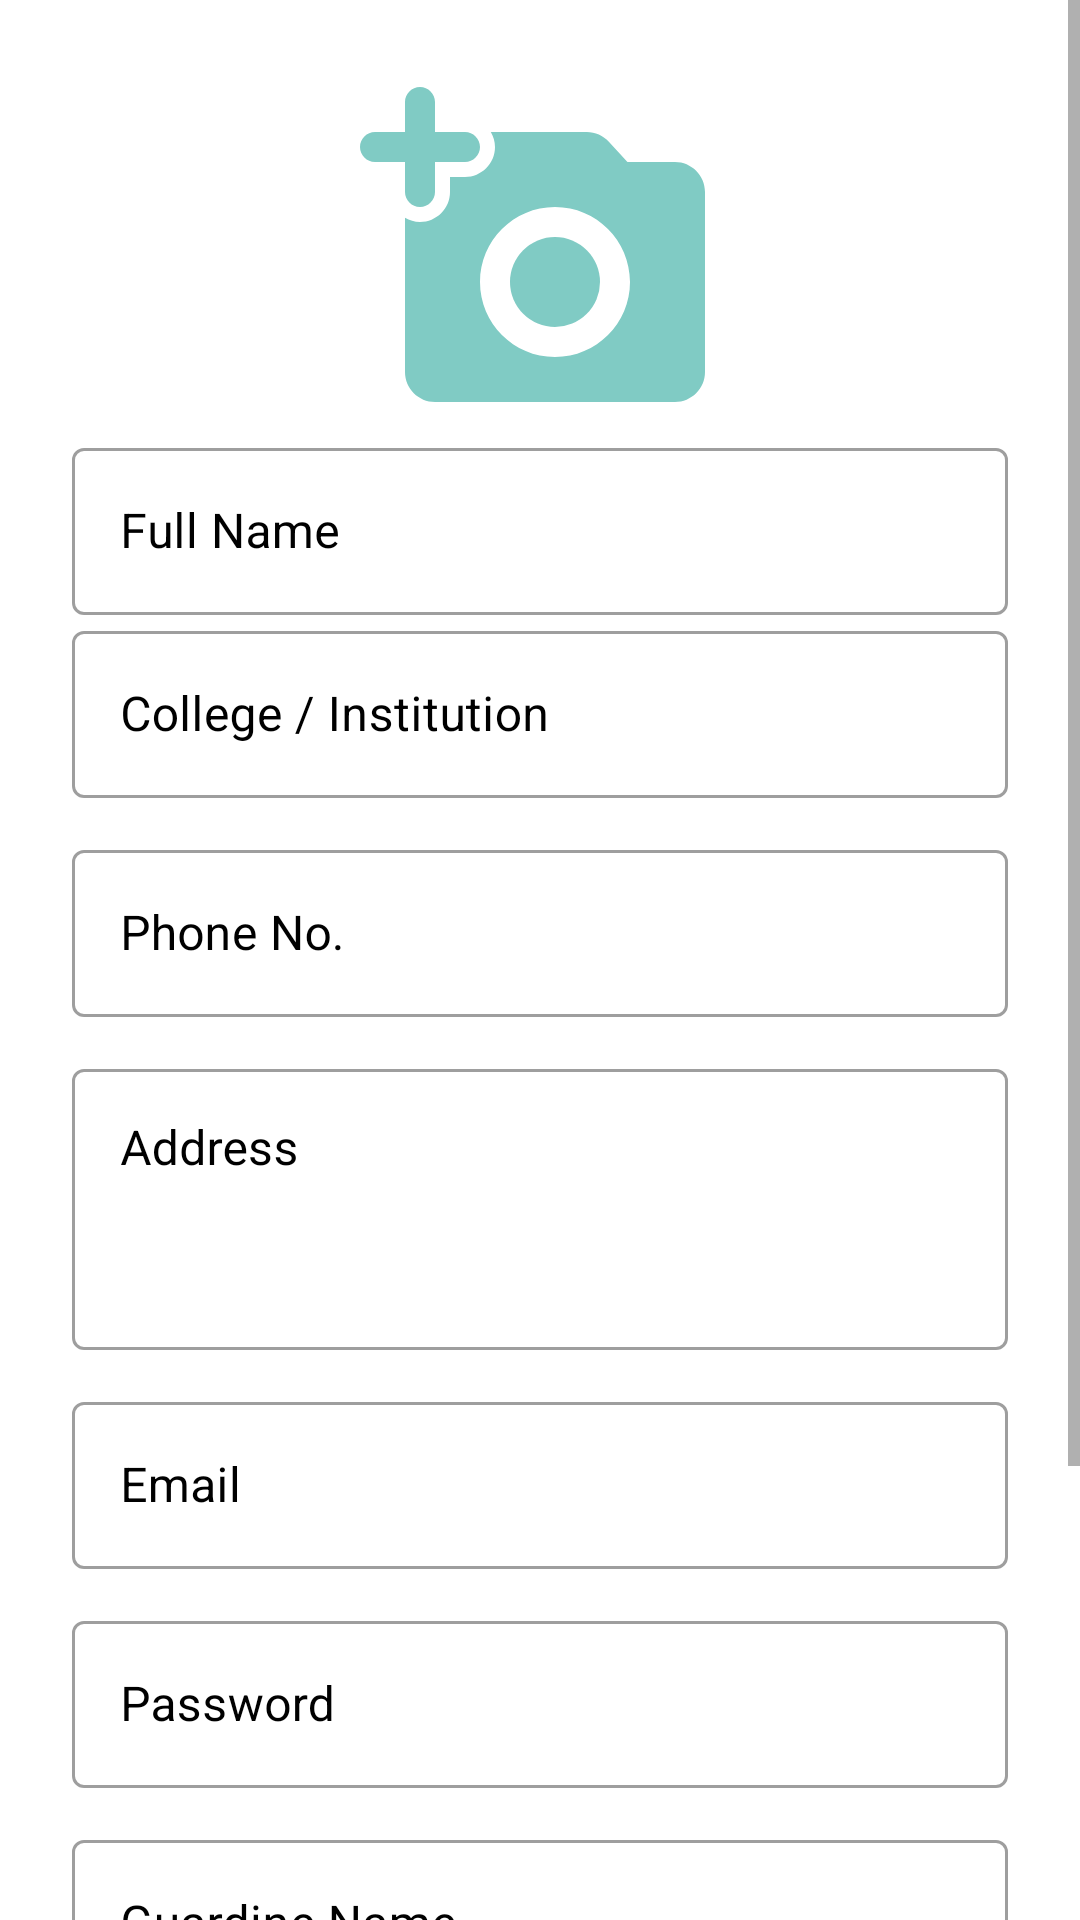

Screen size 1080w x 1920h. Icon name, then its box in pixels as box=[x1, y1, x2, y2]:
add photo: box=[360, 87, 705, 402]
